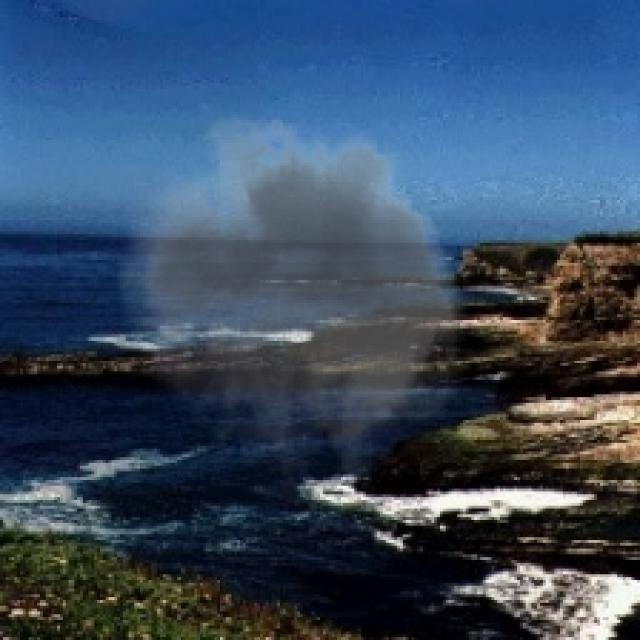Smoke: (117, 97, 480, 486)
